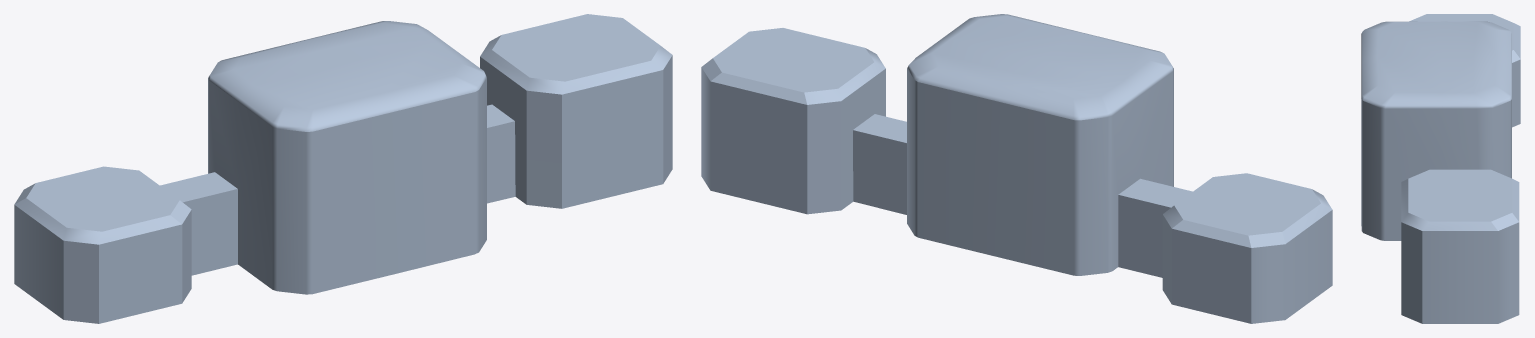
Rendered from MeshForSpaceBuilding.fbx.
The picture shows the model from 3 angles, left to right: view 1: azimuth 30°, elevation 25°; view 2: azimuth 150°, elevation 25°; view 3: azimuth 270°, elevation 25°; orthographic projection. The views are drawn at different scales.
Visible parts, largest first — view 1: SpaceBuilding1; view 2: SpaceBuilding1; view 3: SpaceBuilding1.
Boxes of the visible parts, x1=… form: SpaceBuilding1: x1=14, y1=14, x2=672, y2=323; SpaceBuilding1: x1=701, y1=14, x2=1332, y2=323; SpaceBuilding1: x1=1361, y1=14, x2=1520, y2=323.
Size of the model in its own units: 11.43 by 3.11 by 3.18.
